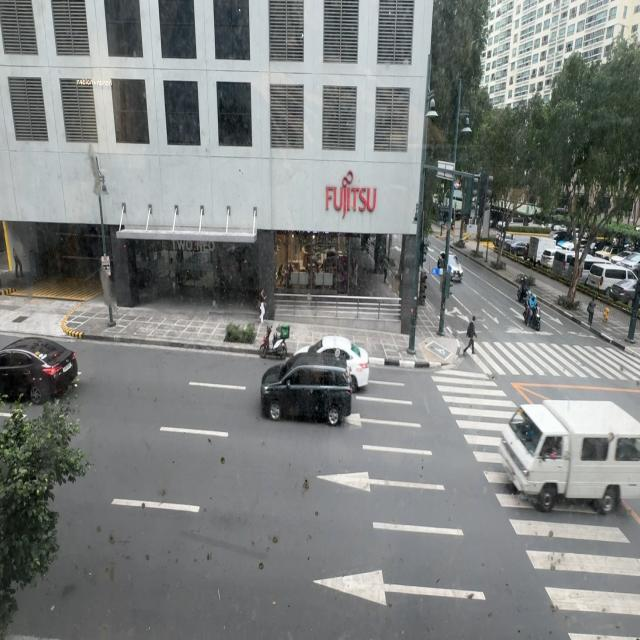crossing: (463, 316, 478, 356)
pedestrain: (258, 287, 267, 325), (587, 297, 596, 327)
